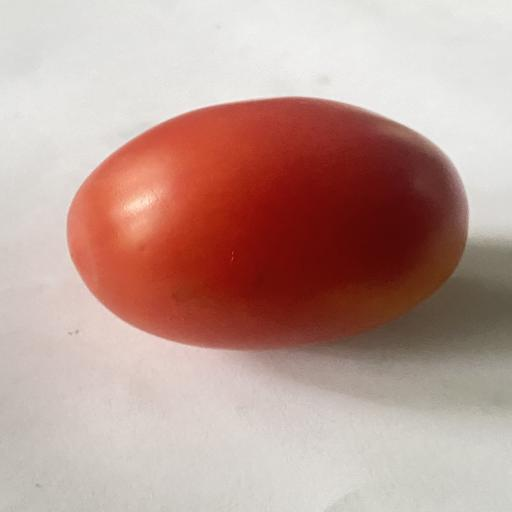ripe: (67, 97, 468, 349)
